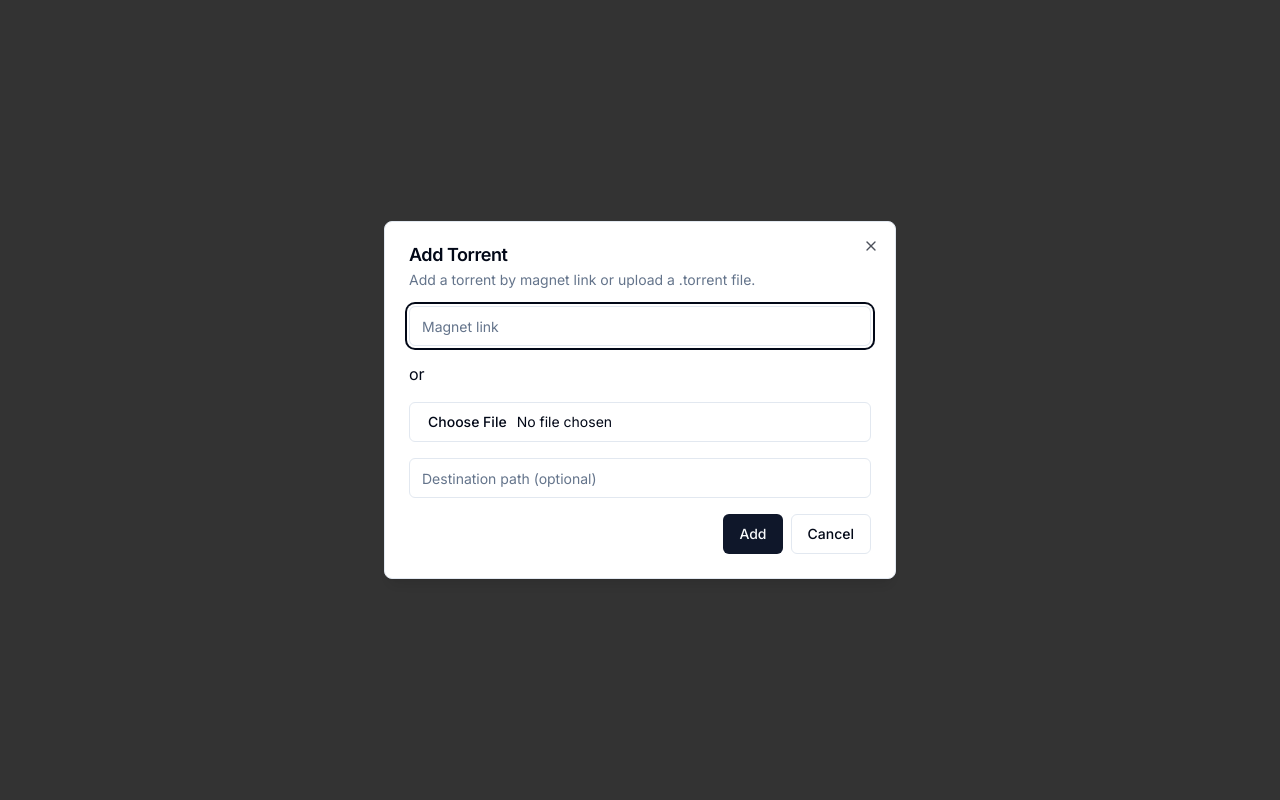
AddTorrentDialog › asks for a magnet link or a file
Click the button "Add": click(753, 534) [723,514,782,554]
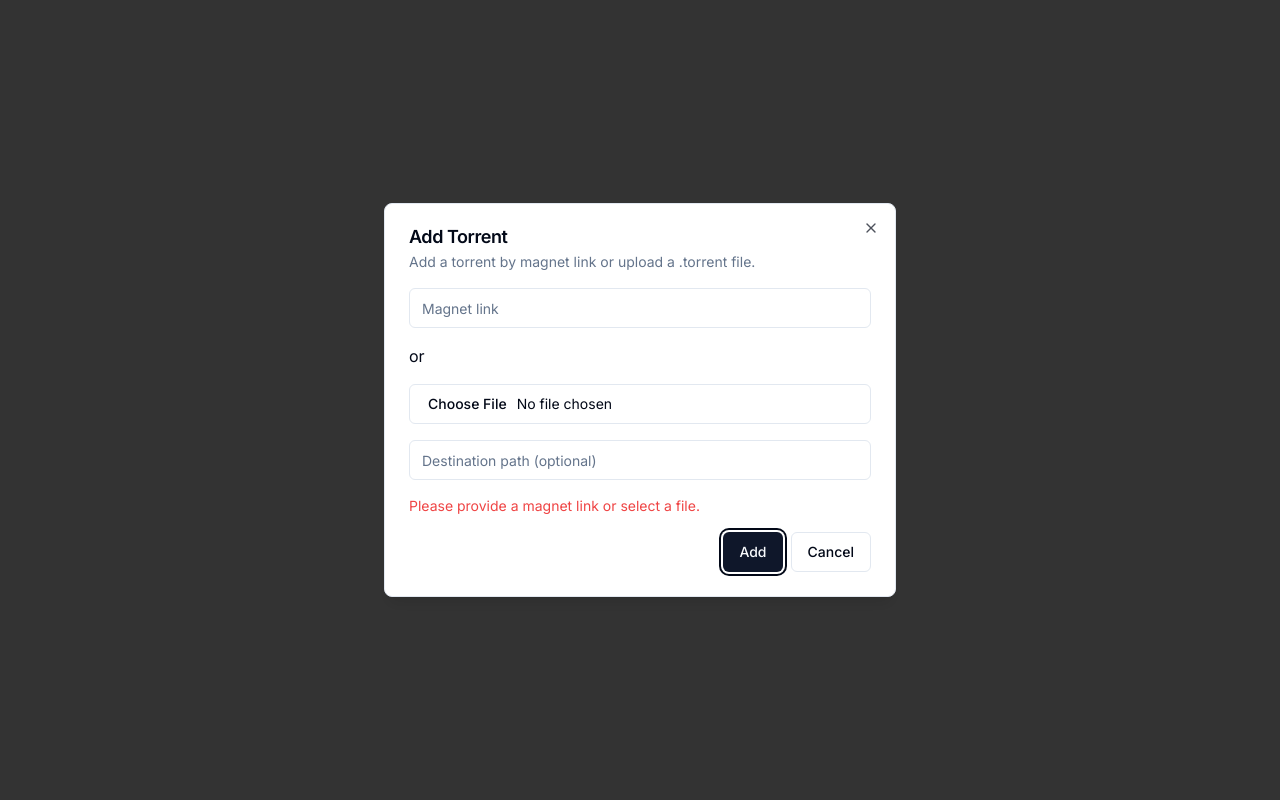
Check: the text "Please provide a magnet link or select a file." is shown, box [409,497,700,514]
